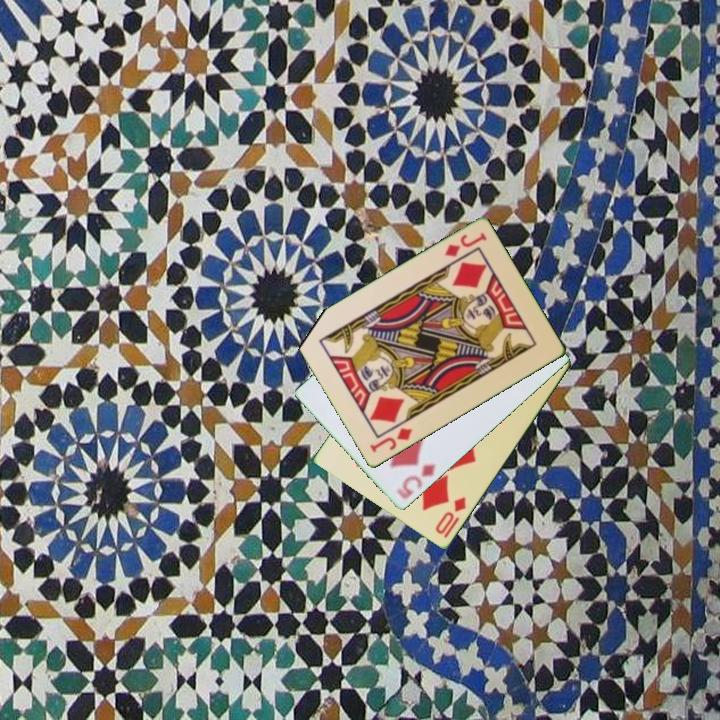10d: (432, 493, 469, 538)
5d: (393, 460, 439, 503)
Jd: (366, 424, 415, 456), (441, 229, 490, 260)
